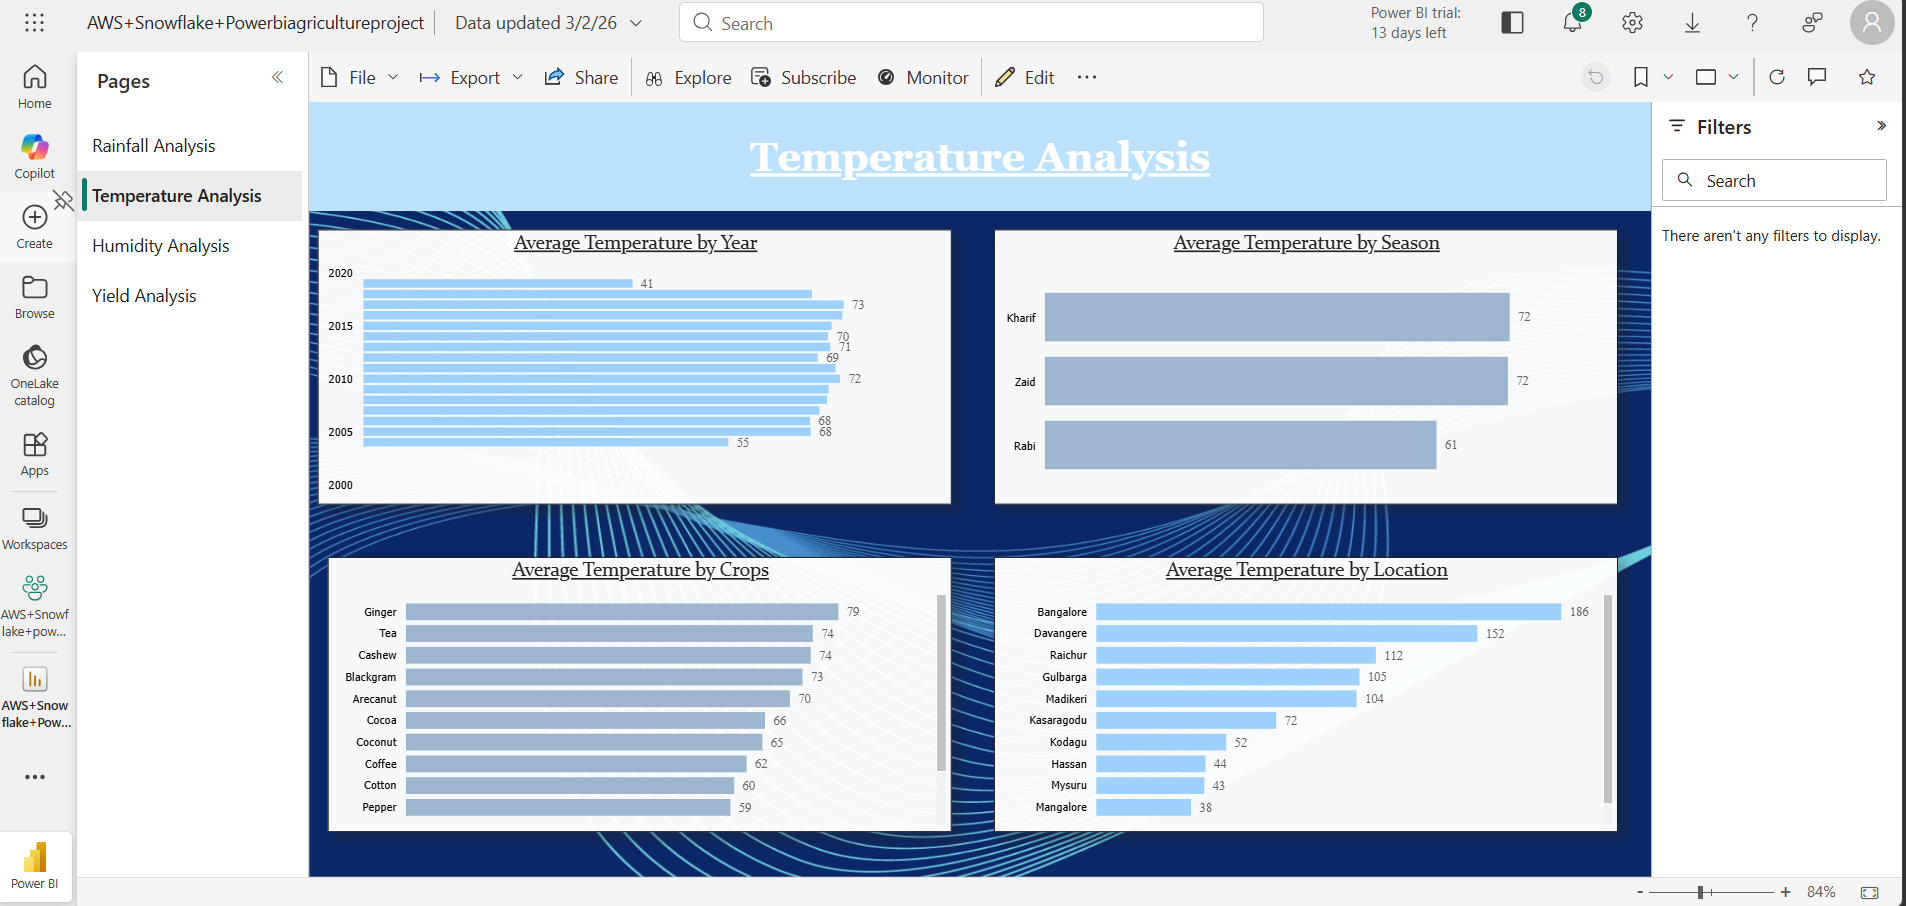

This screenshot's page, from the dashboard's own definition file:
{"tool":"powerbi","page":{"name":"Temperature Analysis","canvas":[1280,720],"ordinal":1},"visuals":[{"type":"shape","box":[0,0,1280.3,104.3],"z":0},{"type":"barChart","title":"Average Temperature by Year","fields":{"Category":["AGGRECULTURE.YEAR"],"Y":["Avg(AGGRECULTURE.TEMPERATURE)"]},"box":[8.2,122.1,605.1,262.1],"z":1000},{"type":"barChart","title":"Average Temperature by Season","fields":{"Category":["AGGRECULTURE.SEASON"],"Y":["Avg(AGGRECULTURE.TEMPERATURE)"]},"box":[653.2,122.1,595.5,262.1],"z":2000},{"type":"barChart","title":"Average Temperature by Crops","fields":{"Category":["AGGRECULTURE.CROPS"],"Y":["Avg(AGGRECULTURE.TEMPERATURE)"]},"box":[17.8,433.6,595.5,262.1],"z":3000},{"type":"barChart","title":"Average Temperature by Location","fields":{"Category":["AGGRECULTURE.LOCATION"],"Y":["Avg(AGGRECULTURE.TEMPERATURE)"]},"box":[653.2,433.6,595.5,262.1],"z":4000}]}

Visuals, with their boxes on the page's 1280x720 design canvas (x1, y1, x2, y2). These are canvas units, not pixel positions in the 1906x906 screenshot, which may show the page scaled, cropped or inside an application window:
shape: [0,0,1280,104]
"Average Temperature by Year" barChart: [8,122,613,384]
"Average Temperature by Season" barChart: [653,122,1249,384]
"Average Temperature by Crops" barChart: [18,434,613,696]
"Average Temperature by Location" barChart: [653,434,1249,696]
